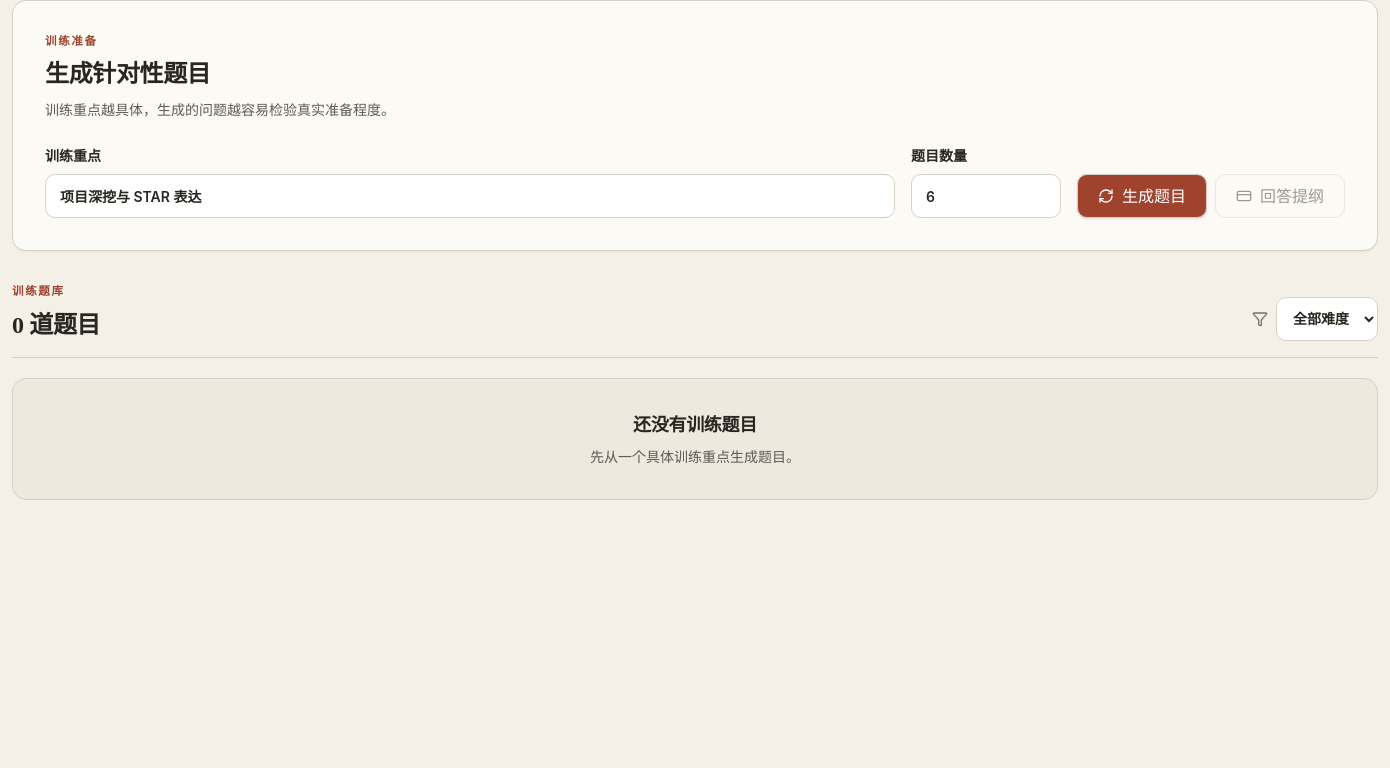
QuestionsPage › shows a useful error when question generation fails
Click the button "生成题目" at x=1142, y=196, box left=1077, top=174, right=1207, bottom=218
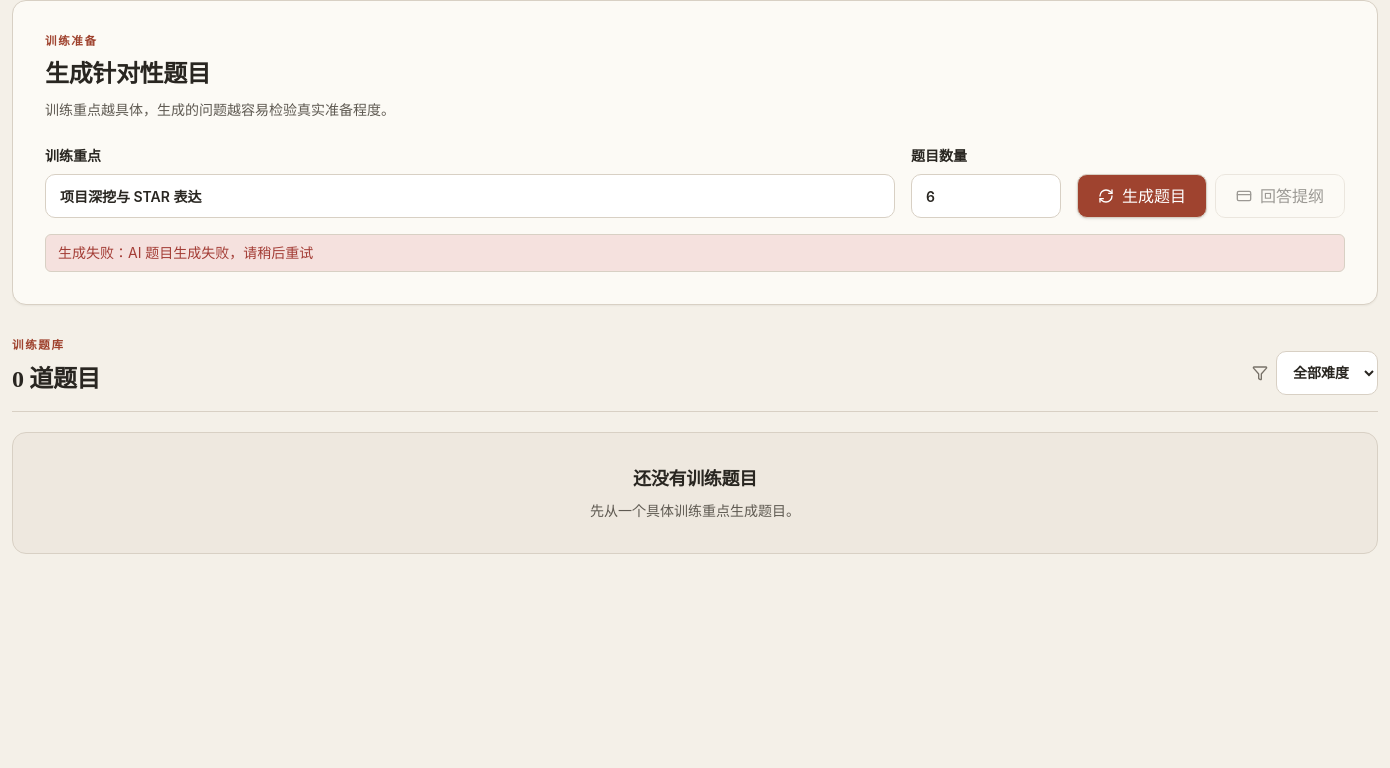
Result: the text "生成失败：AI 题目生成失败，请稍后重试" is shown at left=45, top=234, right=1345, bottom=272
